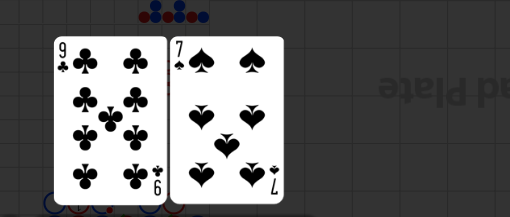7S: (173, 39, 186, 72)
9C: (57, 41, 71, 75)
